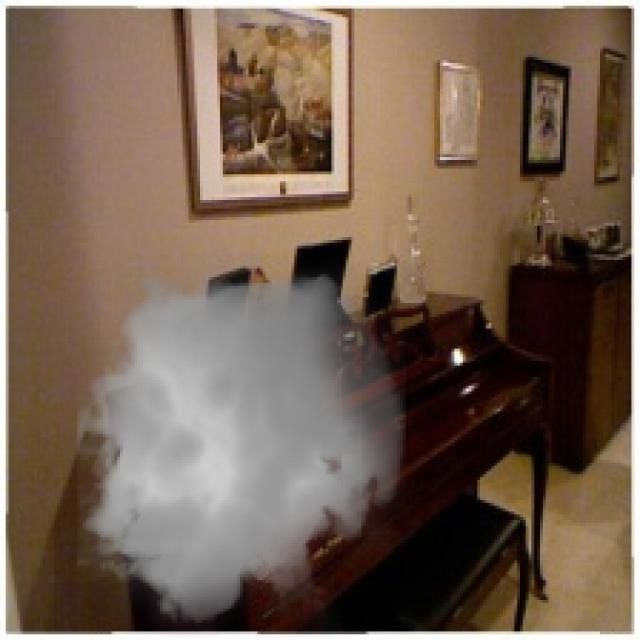Smoke: (62, 254, 418, 637)
